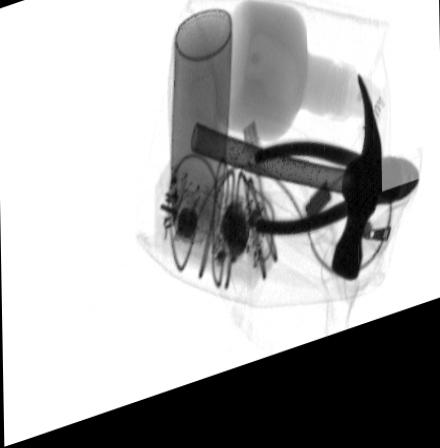Hammer: (189, 97, 383, 304)
Pliers: (253, 159, 419, 253)
